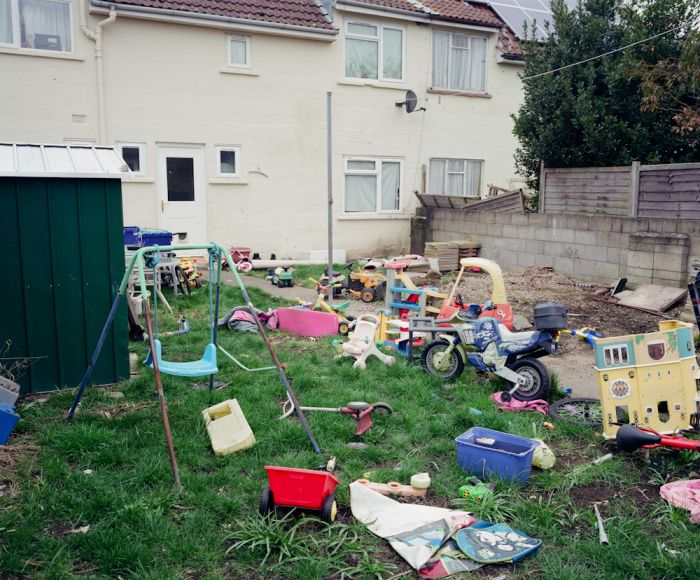container: (254, 453, 346, 523), (453, 415, 541, 485)
